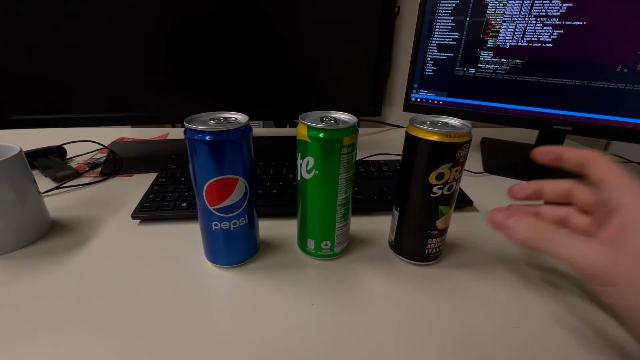OranSoda: (384, 112, 474, 268)
Pepsi: (180, 110, 264, 270)
Sprite: (295, 110, 361, 262)
